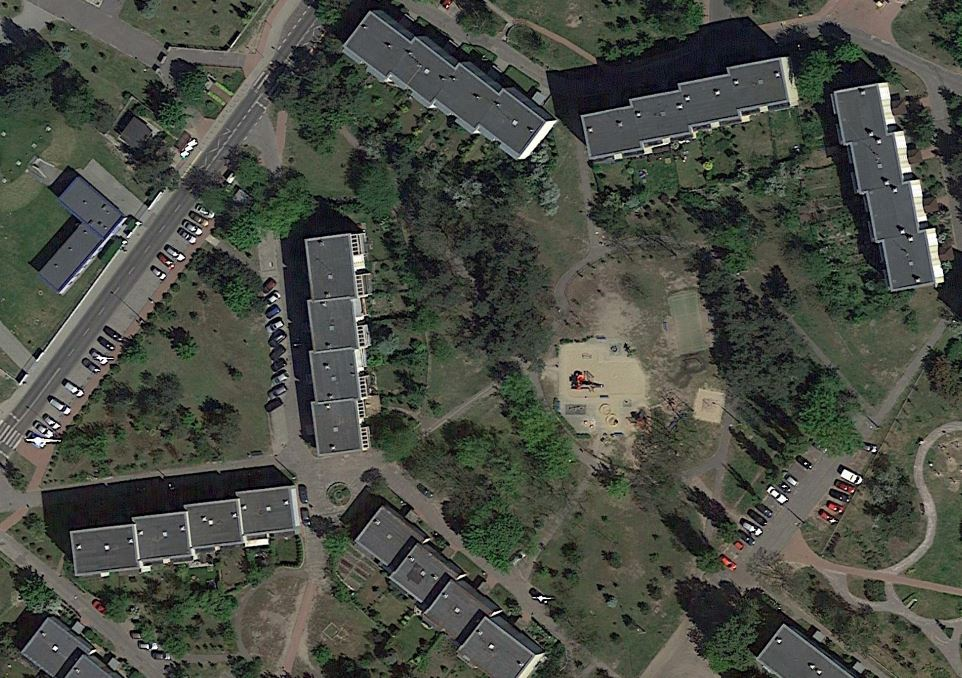block of flats: (334, 1, 560, 173), (346, 495, 557, 678), (822, 66, 960, 296), (578, 46, 814, 173), (67, 478, 305, 591), (297, 209, 399, 469), (15, 610, 134, 678)
